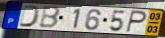1: (72, 9, 82, 30)
5: (108, 9, 128, 33)
6: (84, 8, 102, 31)
B: (39, 6, 62, 30)
D: (18, 4, 42, 28)
P: (124, 10, 148, 34)
